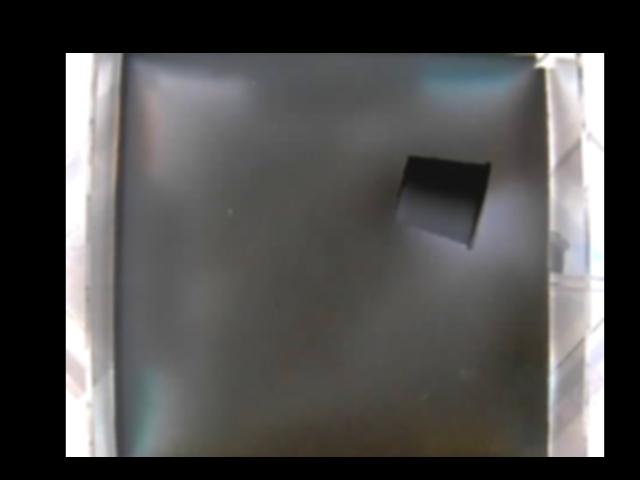Cup: (392, 154, 493, 250)
